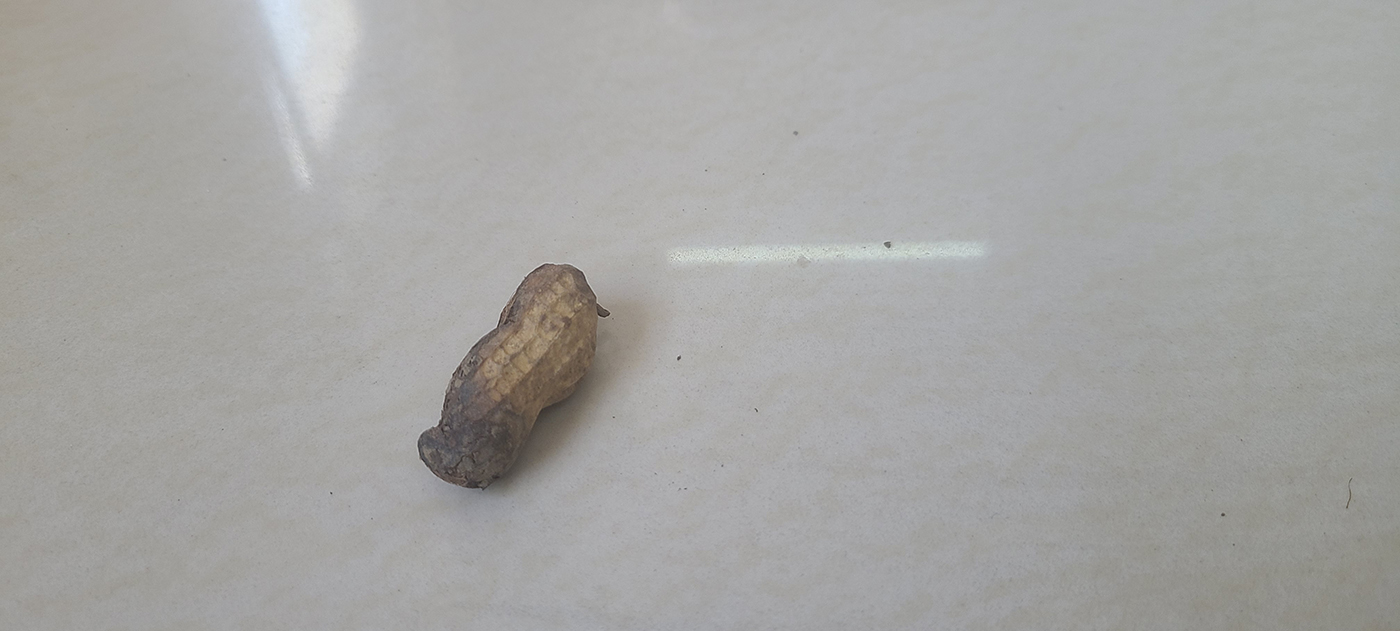l: (414, 263, 606, 489)
